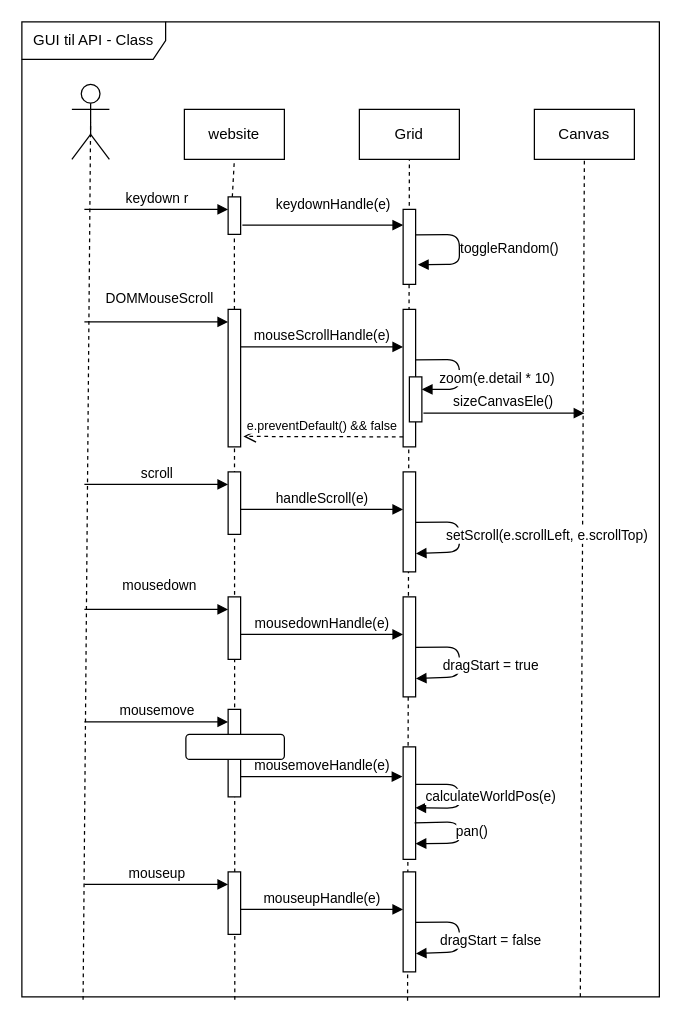
Some shapes in this 681 by 1025 pixel diagram are drawn without their labels. The box of each missing label's shape, as (x1, y1, x2, y2) in pixels:
Besøgende: (71, 83, 109, 159)
dragStart == true: (185, 733, 284, 759)
